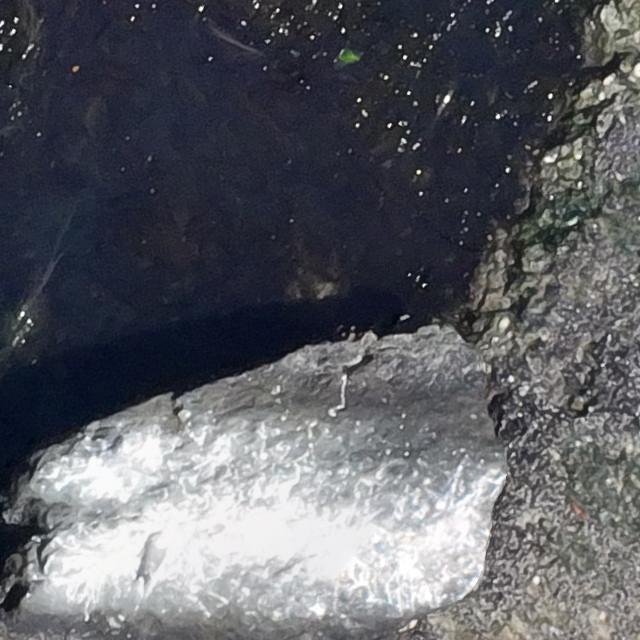umineko: (138, 531, 170, 587)
